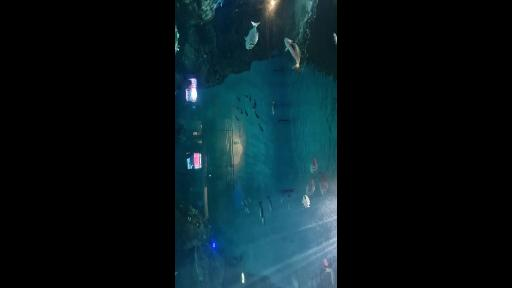Fish: (285, 38, 300, 69), (245, 22, 259, 49), (319, 172, 328, 194), (306, 177, 315, 195), (259, 202, 265, 225), (302, 195, 310, 208), (311, 156, 317, 173), (242, 199, 249, 213), (330, 269, 335, 285), (267, 196, 272, 211), (292, 276, 298, 287), (323, 258, 328, 267), (258, 123, 263, 131), (272, 102, 275, 114), (309, 279, 313, 287), (334, 34, 337, 44), (282, 190, 296, 192), (255, 111, 259, 118), (235, 115, 239, 121), (279, 120, 290, 122), (245, 110, 248, 116), (254, 100, 256, 108), (288, 202, 290, 210), (240, 109, 243, 114), (237, 96, 240, 101), (234, 106, 239, 109), (281, 197, 283, 203), (248, 198, 250, 203), (245, 95, 248, 98), (250, 96, 251, 102)
